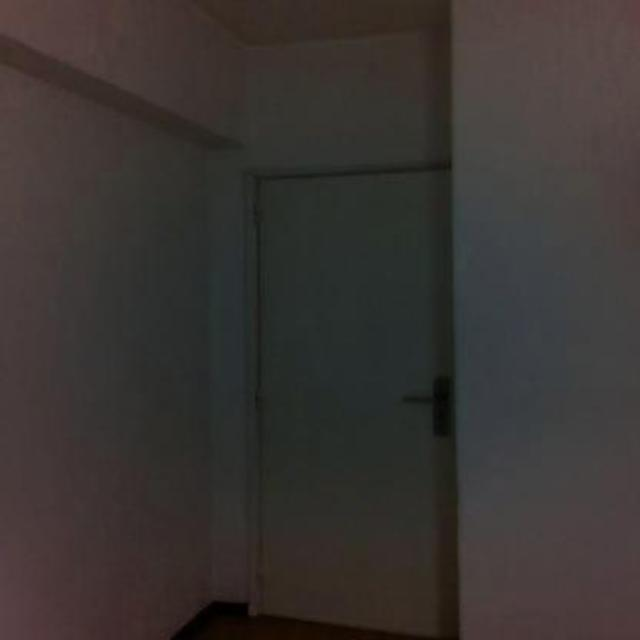door: (248, 164, 457, 638)
